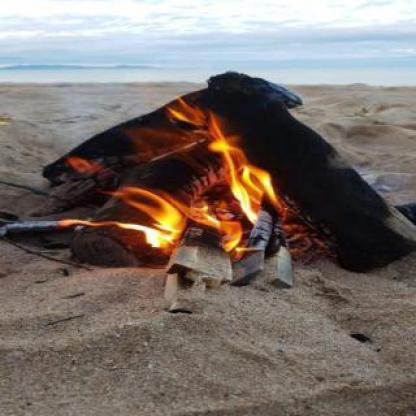fire: (55, 89, 285, 257)
